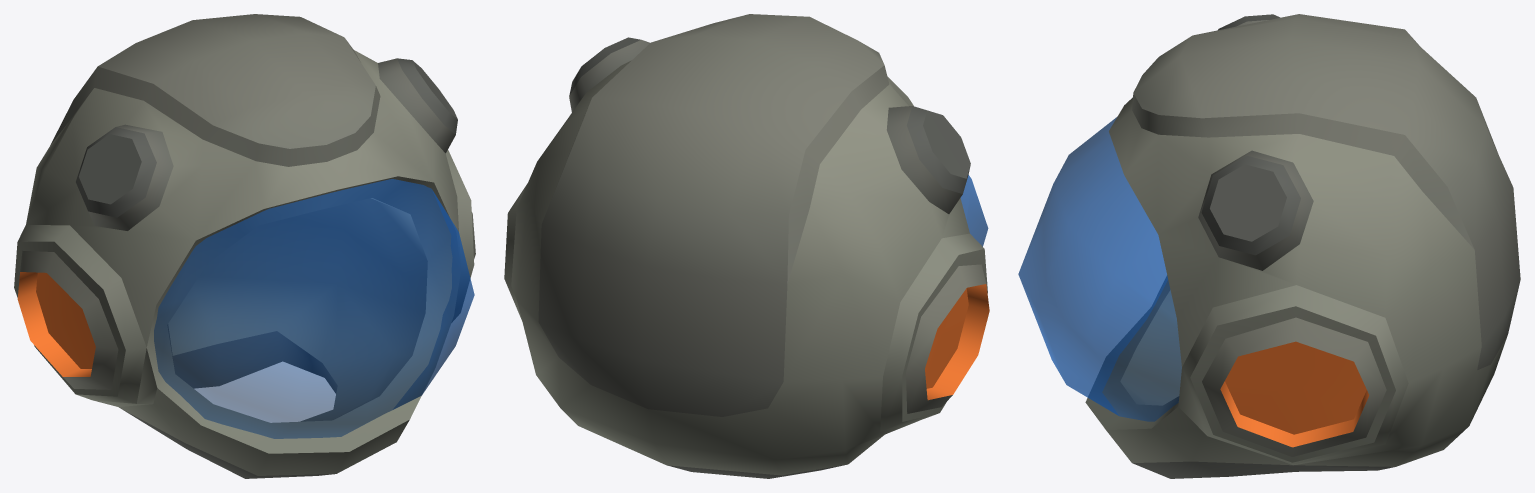
Rendered from Headgear_26.fbx.
3 views of the same model, side by side, from view 1: azimuth 30°, elevation 25°; view 2: azimuth 150°, elevation 25°; view 3: azimuth 270°, elevation 25° (orthographic). The views are drawn at different scales.
Visible parts, largest first — view 1: Headgear_26; view 2: Headgear_26; view 3: Headgear_26.
Part boxes in pixels (bbox=[...]): Headgear_26: bbox=[14, 14, 475, 478]; Headgear_26: bbox=[504, 14, 989, 478]; Headgear_26: bbox=[1018, 14, 1520, 478].
Bounding box in the file's own units: 96.86 × 87.92 × 97.07.
